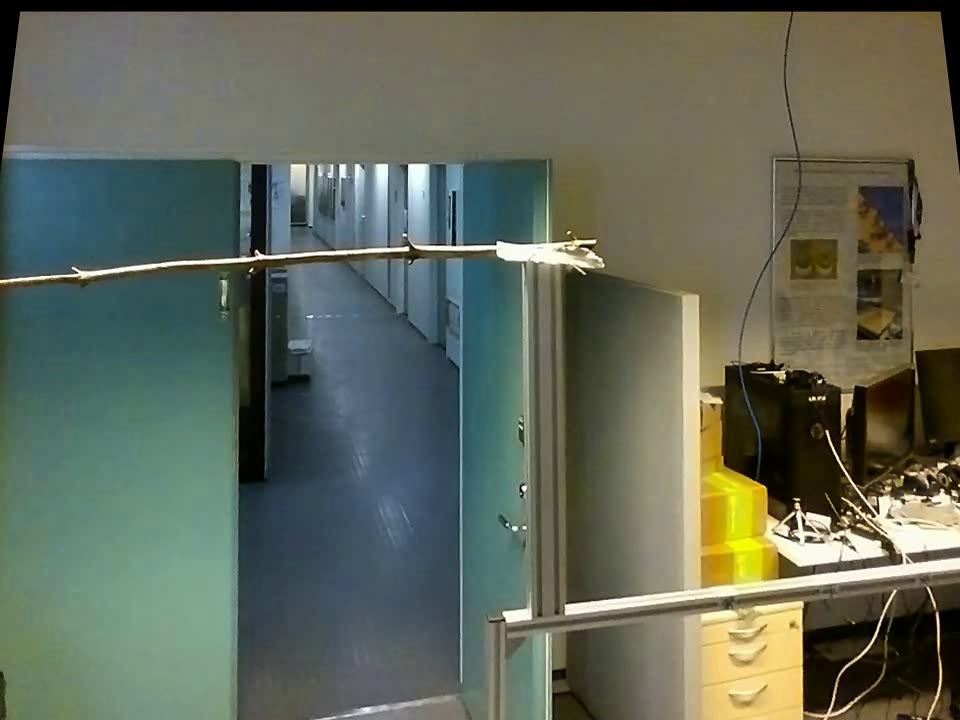aluminum_frame: (510, 553, 957, 654), (516, 263, 574, 608), (478, 605, 511, 717)
branch: (10, 224, 494, 299)
